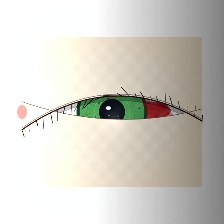hemorrhage_spot: (119, 87, 179, 135)
